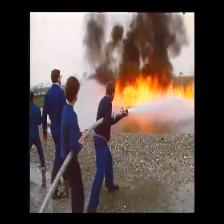fire: (115, 75, 193, 102)
